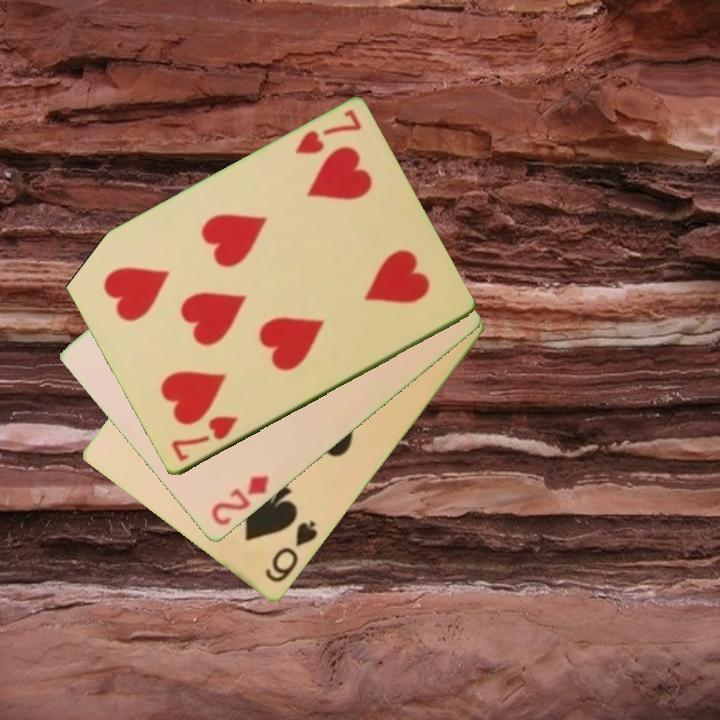2d: (207, 472, 272, 529)
6s: (261, 517, 321, 587)
7h: (167, 412, 241, 465), (291, 106, 365, 158)
